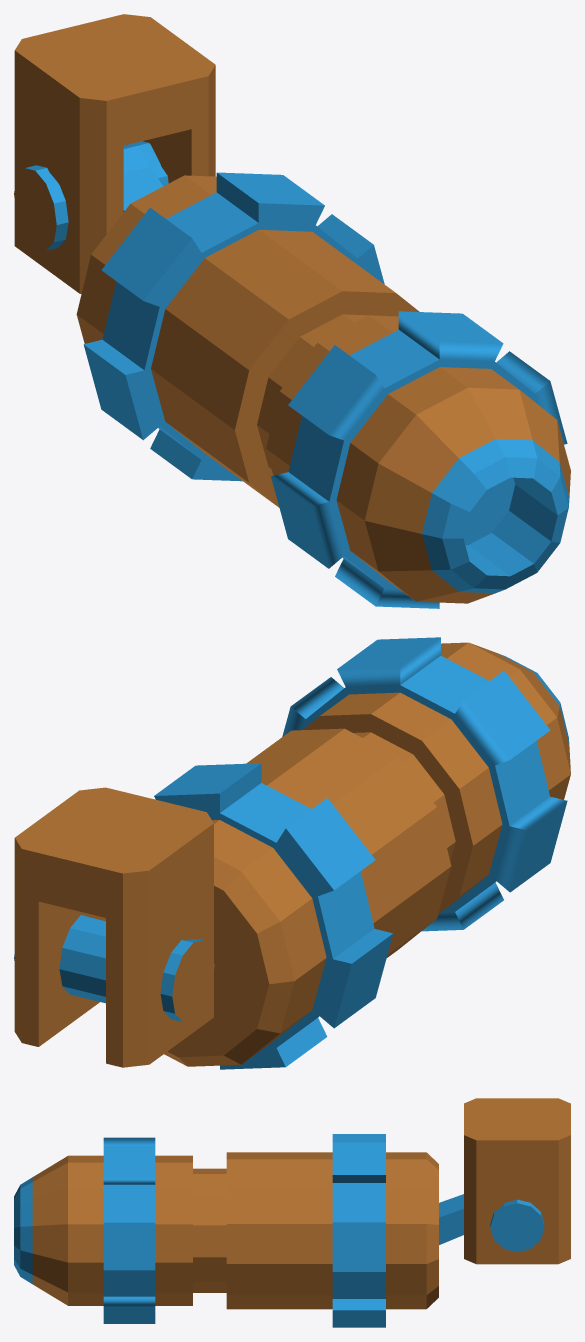
File: GunBotGun.fbx
The picture shows the model from 3 angles, top to bottom: view 1: azimuth 30°, elevation 25°; view 2: azimuth 150°, elevation 25°; view 3: azimuth 270°, elevation 25°; orthographic projection. The views are drawn at different scales.
Parts seen in each view (by area): view 1: GunBotGun; view 2: GunBotGun; view 3: GunBotGun.
Boxes of the visible parts, x1,y1,x2,y2 form: GunBotGun: (14, 14, 570, 608); GunBotGun: (14, 637, 570, 1069); GunBotGun: (14, 1098, 570, 1327).
Bounding box in the file's own units: 26.96 × 30.66 × 77.21.
